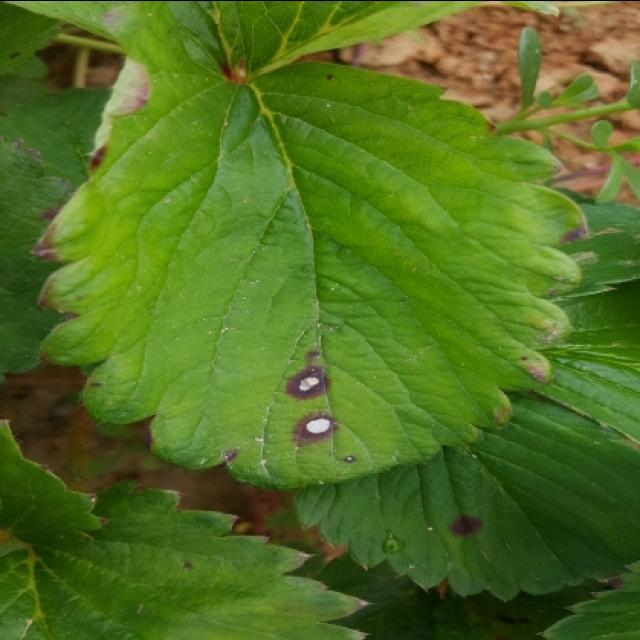Leaf Spot: (30, 55, 590, 489), (291, 389, 638, 603), (0, 476, 376, 638), (88, 0, 221, 179), (539, 559, 638, 638), (0, 0, 68, 82)
